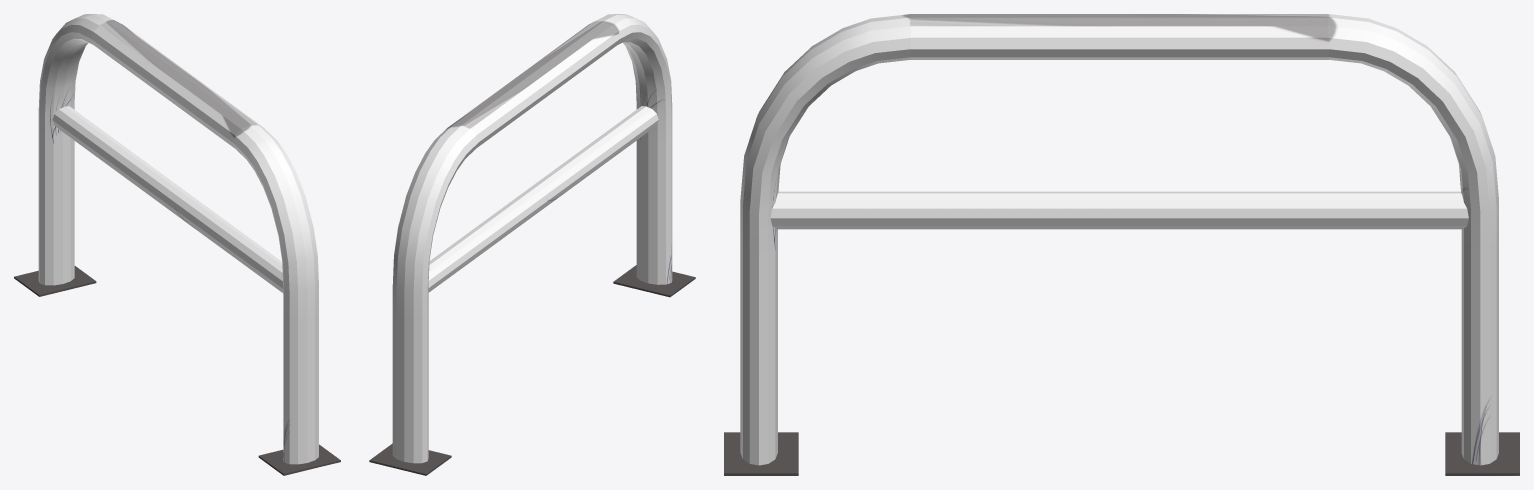
The model's file is Bar small.fbx.
3 views of the same model, side by side, from view 1: azimuth 30°, elevation 25°; view 2: azimuth 150°, elevation 25°; view 3: azimuth 270°, elevation 25° (orthographic). The views are drawn at different scales.
Parts seen in each view (by area): view 1: pCube4; view 2: pCube4; view 3: pCube4.
Part boxes in pixels (box(x1,y1,x2,y2)): pCube4: box(14, 14, 340, 475); pCube4: box(369, 14, 695, 475); pCube4: box(724, 14, 1519, 475).
Bounding box in the file's own units: 2.78 × 13.96 × 22.82.
